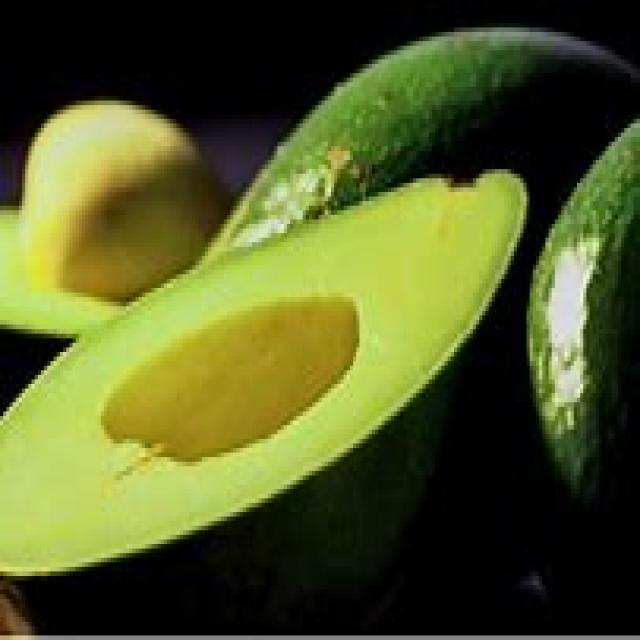avocado: (0, 132, 545, 630), (224, 18, 640, 174), (0, 66, 224, 354), (526, 95, 640, 617)
